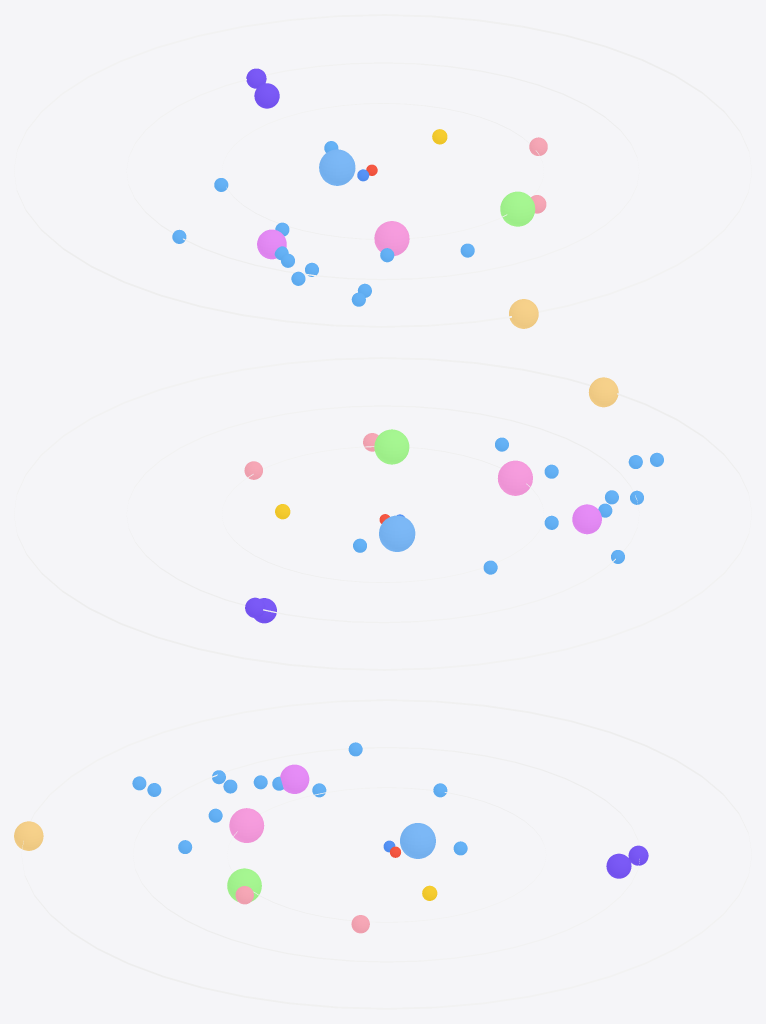
The model's file is alicjas planets.glb.
3 renders of one model, top to bottom at view 1: azimuth 30°, elevation 25°; view 2: azimuth 150°, elevation 25°; view 3: azimuth 270°, elevation 25°, orthographic.
Visible parts, largest first — view 1: BezierCircle.003, BezierCircle.002, Sphere.004, Sphere, Sphere.005, BezierCircle.001, Sphere.010, Sphere.009, Sphere.016; view 2: BezierCircle.003, BezierCircle.002, Sphere.004, Sphere.005, Sphere, BezierCircle.001, Sphere.010, Sphere.009; view 3: BezierCircle.003, BezierCircle.002, Sphere.004, Sphere.005, BezierCircle.001, Sphere, Sphere.010, Sphere.009, Sphere.016.
Part boxes in pixels (x1,y1,x2,y2): BezierCircle.003: [14, 14, 751, 327]; BezierCircle.002: [126, 62, 639, 280]; Sphere.004: [319, 149, 355, 185]; Sphere: [500, 191, 535, 226]; Sphere.005: [374, 221, 409, 255]; BezierCircle.001: [222, 103, 543, 239]; Sphere.010: [509, 299, 538, 328]; Sphere.009: [257, 229, 286, 259]; Sphere.016: [254, 83, 279, 108]; BezierCircle.003: [14, 357, 751, 670]; BezierCircle.002: [126, 405, 639, 623]; Sphere.004: [379, 515, 415, 551]; Sphere.005: [497, 460, 532, 495]; Sphere: [374, 429, 409, 464]; BezierCircle.001: [222, 446, 543, 582]; Sphere.010: [588, 377, 618, 407]; Sphere.009: [572, 504, 601, 534]; BezierCircle.003: [21, 699, 751, 1009]; BezierCircle.002: [133, 747, 639, 962]; Sphere.004: [400, 823, 435, 858]; Sphere.005: [229, 808, 264, 842]; BezierCircle.001: [227, 787, 546, 922]; Sphere: [227, 868, 261, 901]; Sphere.010: [14, 821, 43, 850]; Sphere.009: [280, 764, 309, 793]; Sphere.016: [606, 853, 631, 878].
Bounding box in the file's own units: 20.37 × 1.17 × 20.58.
